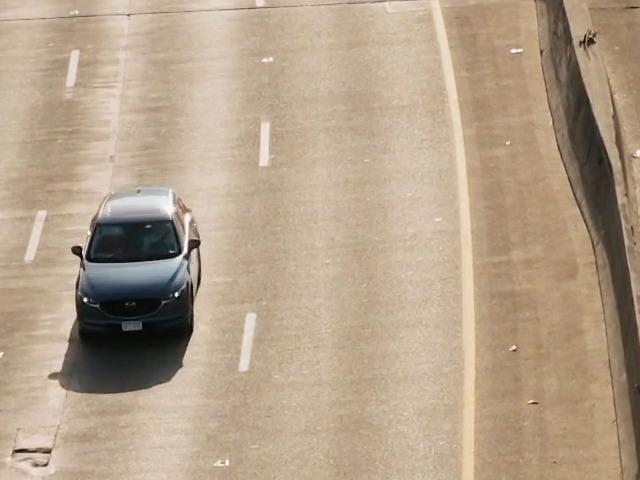car: (57, 190, 210, 373)
